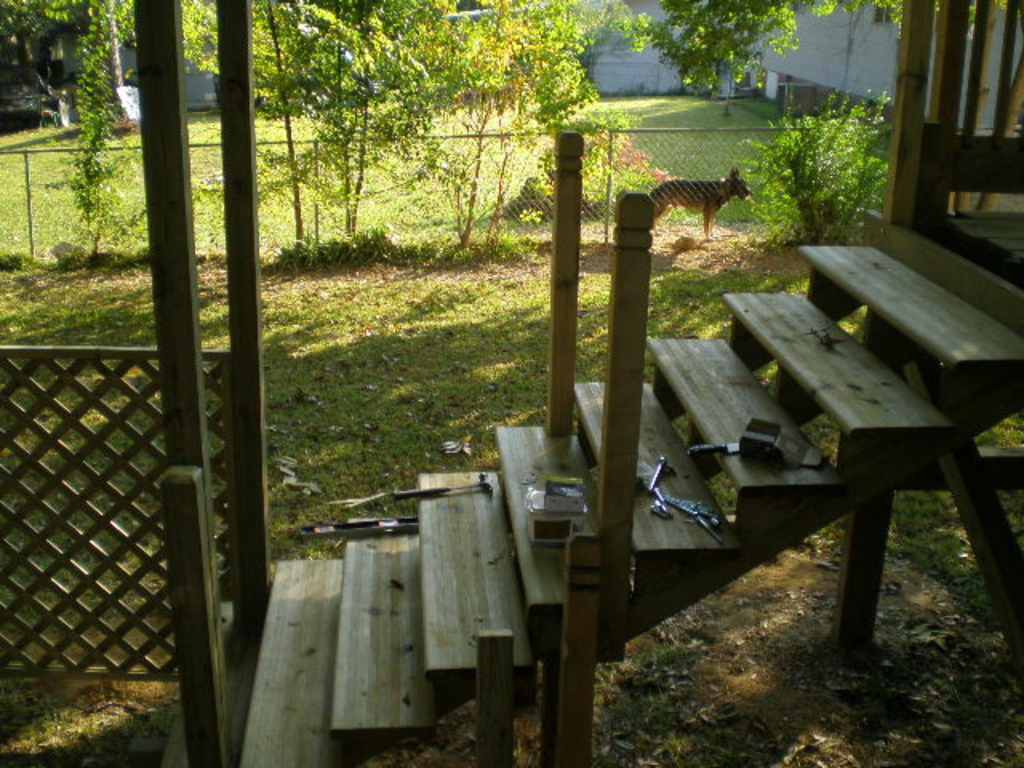Tree: (0, 0, 1014, 248), (625, 0, 843, 92)
